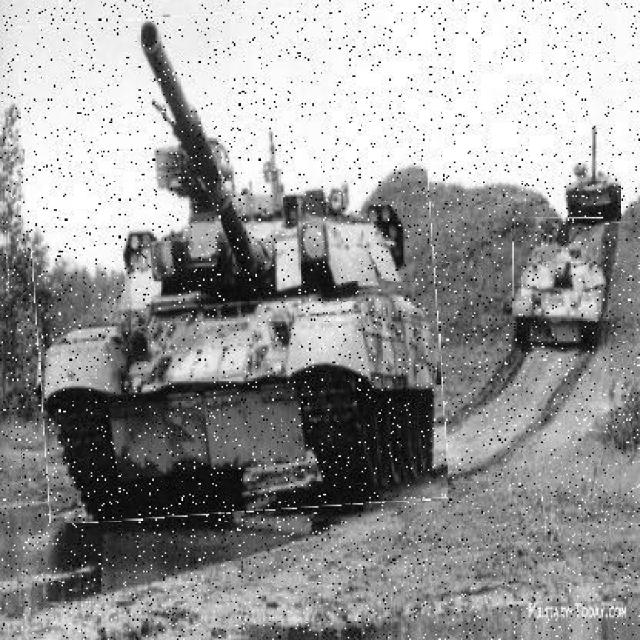Tank: (27, 7, 443, 518), (515, 220, 609, 354), (561, 124, 621, 226)
